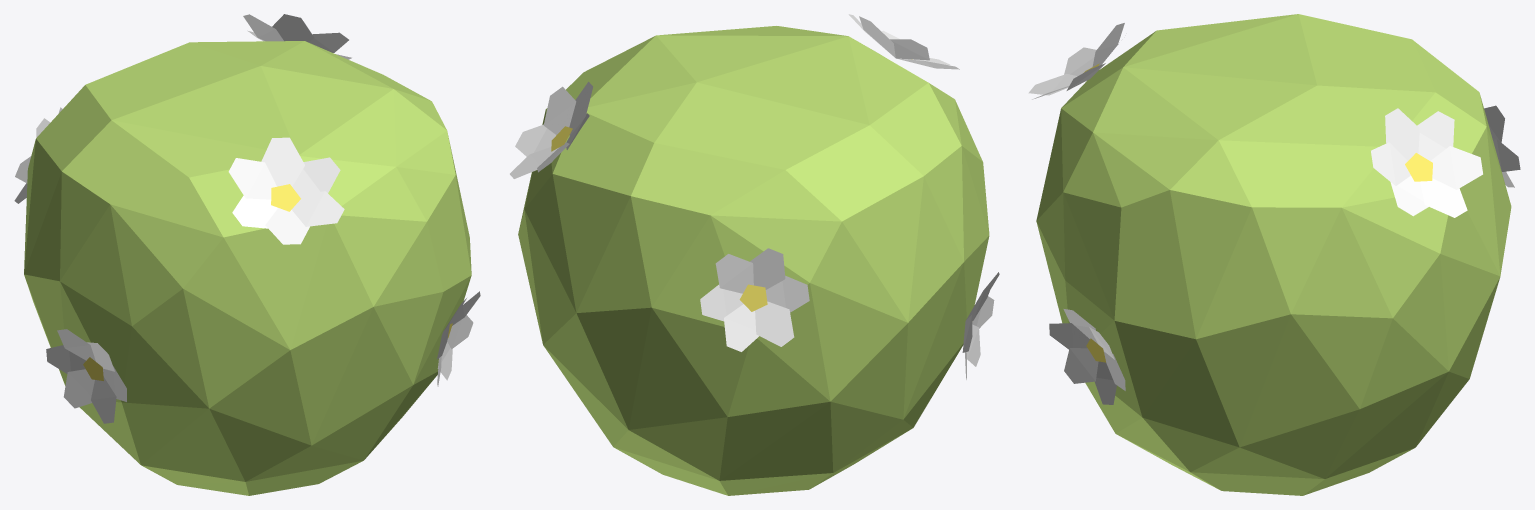
Rendered from FlowerBush_a_m_06.fbx.
The picture shows the model from 3 angles, left to right: view 1: azimuth 30°, elevation 25°; view 2: azimuth 150°, elevation 25°; view 3: azimuth 270°, elevation 25°; orthographic projection. The views are drawn at different scales.
Visible parts, largest first — view 1: FlowerBush_a_m_06_LOD0; view 2: FlowerBush_a_m_06_LOD0; view 3: FlowerBush_a_m_06_LOD0.
Part boxes in pixels (x1,y1,x2,y2): FlowerBush_a_m_06_LOD0: [14, 14, 480, 495]; FlowerBush_a_m_06_LOD0: [510, 14, 999, 495]; FlowerBush_a_m_06_LOD0: [1028, 14, 1520, 495].
Size of what is drawn, in the model's own units: 152 by 145 by 152.
